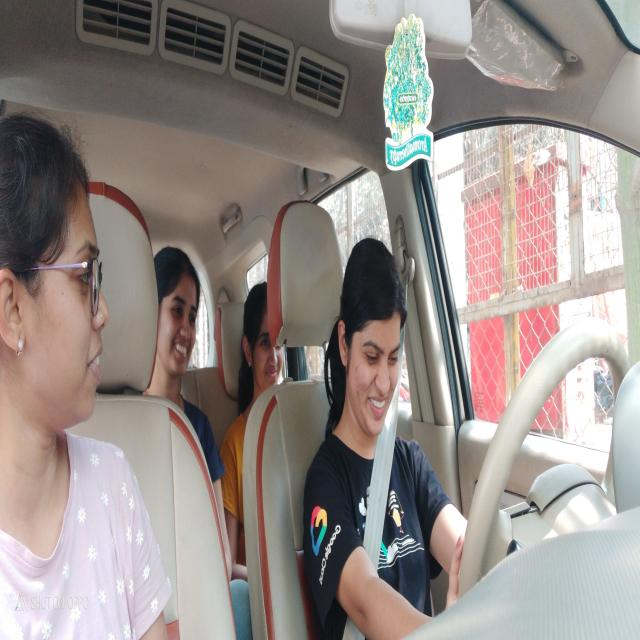drowsy: (334, 233, 406, 442)
person: (0, 115, 111, 441), (154, 246, 202, 388), (239, 281, 284, 391)
